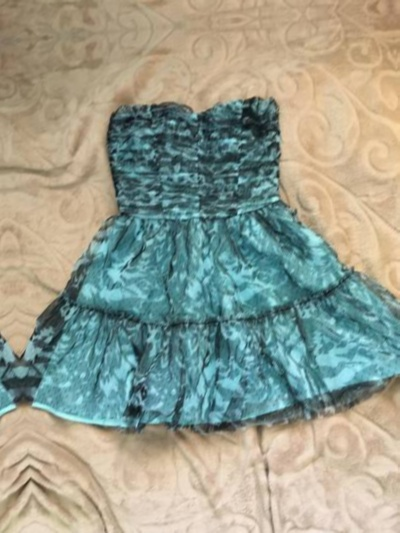Dress: (1, 72, 400, 447), (0, 109, 23, 484), (399, 35, 400, 410)
